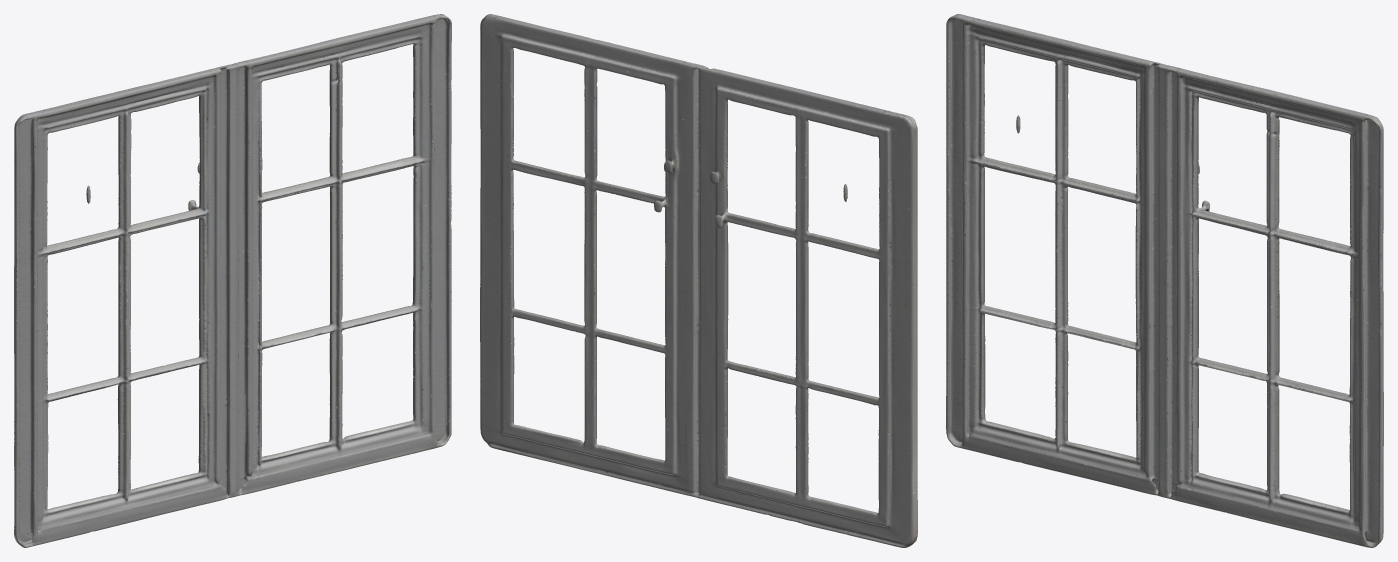
Rendered from Pair_Of_Six_Pane_Window.glb.
The picture shows the model from 3 angles, left to right: view 1: azimuth 30°, elevation 25°; view 2: azimuth 150°, elevation 25°; view 3: azimuth 330°, elevation 25°; orthographic projection.
Bounding box in the file's own units: 2 × 1.89 × 0.1086.
Materials: 1 (1 with a texture image).
